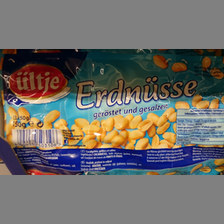nuts: (1, 54, 224, 173)
